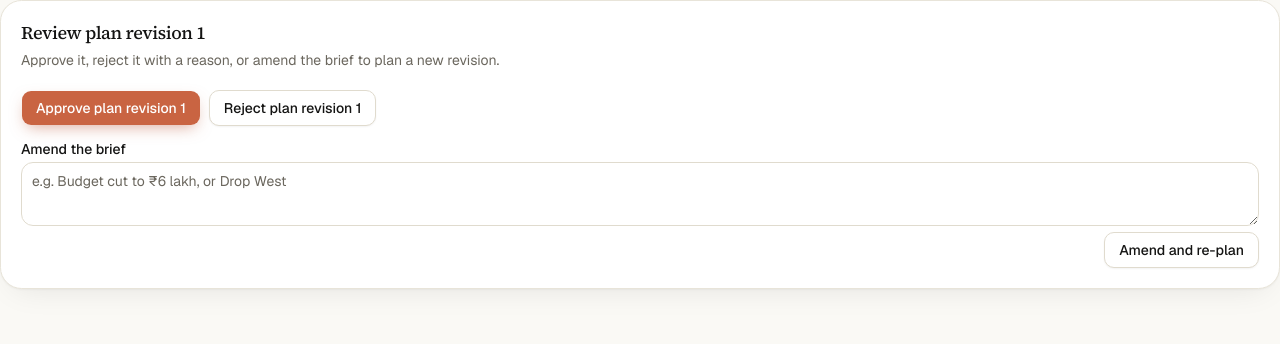
Test: ReviewPanel › shows why an approval failed and lets the manager try again
This screenshot has width=1280, height=344.
Click the button "Approve plan revision 1" at {"x": 111, "y": 108}, box [21,90,201,126]
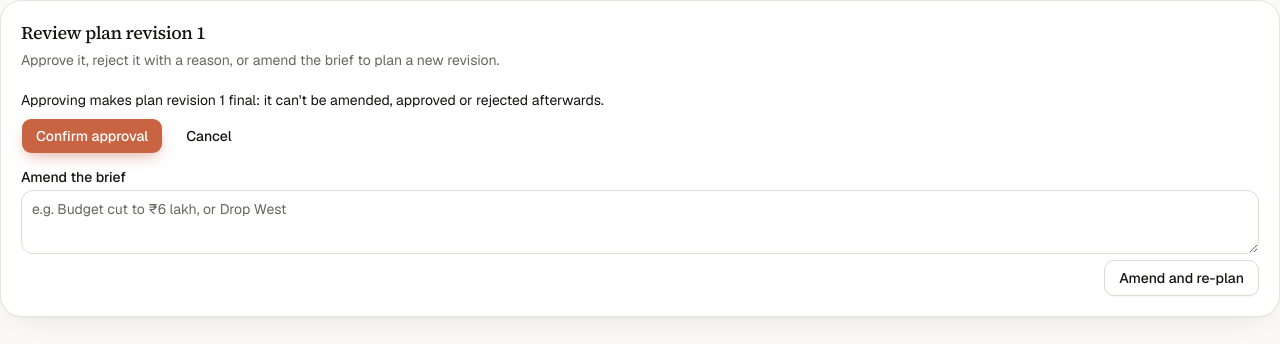
Click the button "Confirm approval" at {"x": 92, "y": 136}, box [21,118,163,154]
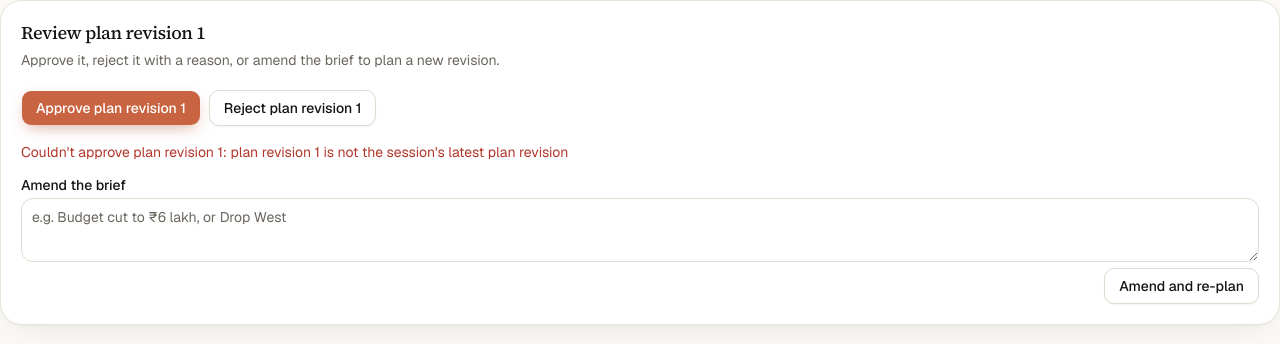
Check: the button "Approve plan revision 1" is enabled, box [21,90,201,126]
Check: the message shows "Couldn't approve plan revision 1: plan revision 1 is not the session's latest plan revision", box [21,143,568,161]
